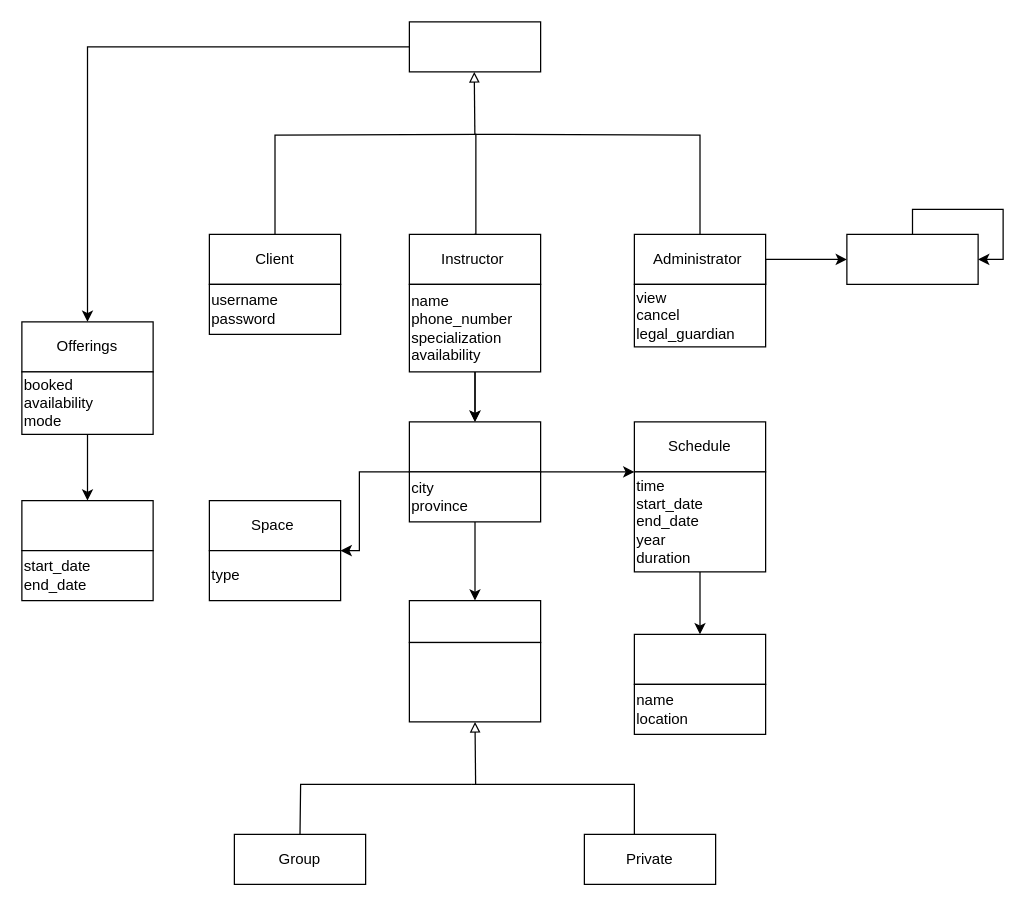
This 1035x906 diagram has some shape labels left out. The shapes that lost their labels are listed below. From the top down, each one's box as (x1, y1, x2, y2) in pixels, then its label:
(408, 21, 541, 72): User
(846, 233, 978, 284): Records
(408, 421, 541, 472): Location
(21, 499, 153, 551): TimeSlot
(408, 599, 541, 642): Lesson
(633, 633, 766, 684): Room
(408, 641, 541, 722): type duration start_date end_date
